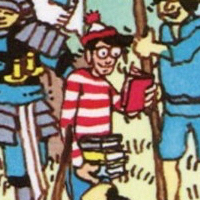waldo: (88, 22, 121, 80)
